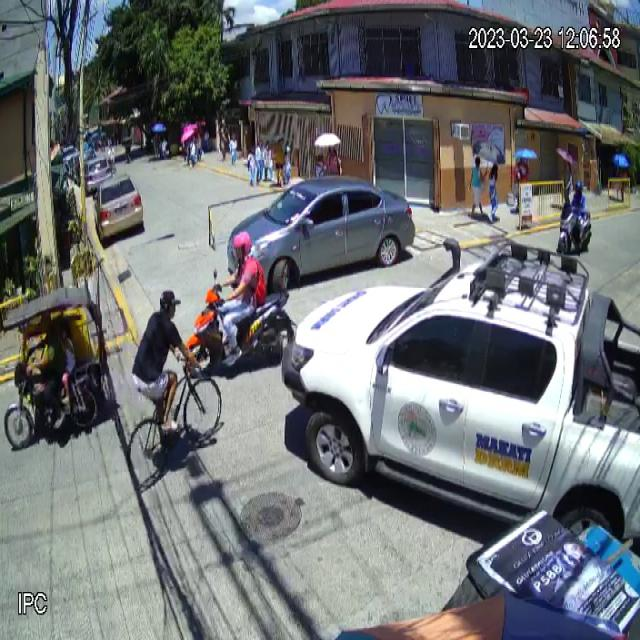Car: (282, 235, 640, 548), (225, 173, 417, 291)
Motorcycle: (184, 266, 300, 384)
Tricycle: (2, 286, 111, 452)
